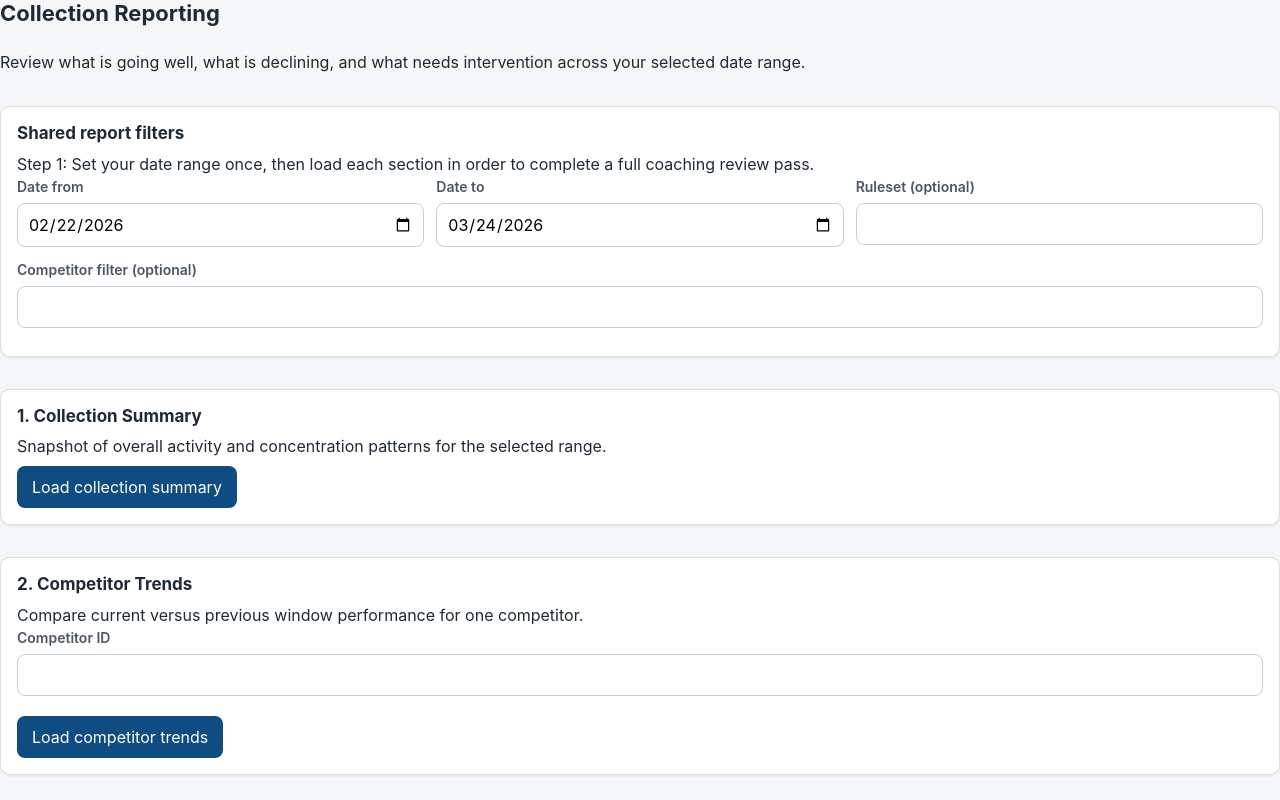
Test: ReportsPage › validates competitor trends input before request
What coordinates should you click on to do the following:
click the button "Load competitor trends"
I would click on:
 (120, 737)
Its box is [17,716,223,758].
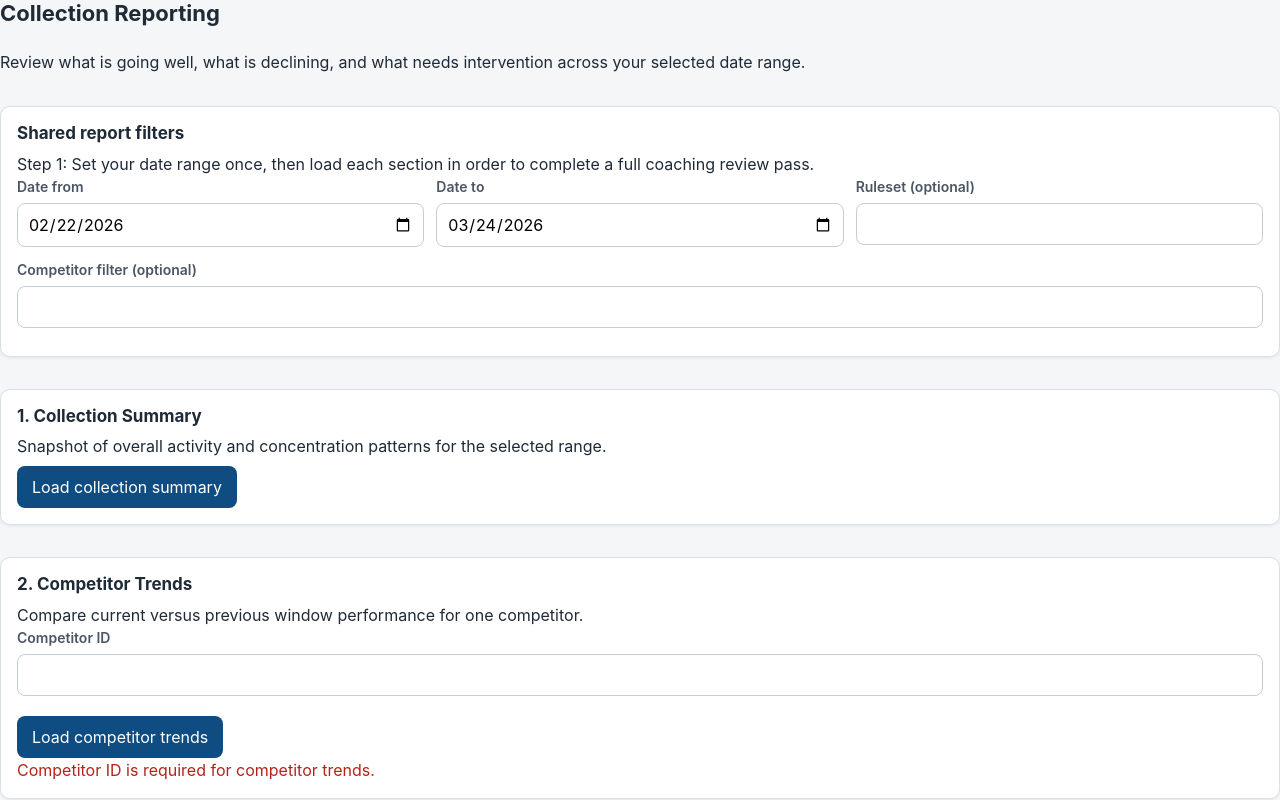
Now the text "Competitor ID is required for competitor trends." is shown, box [17,760,375,780]
